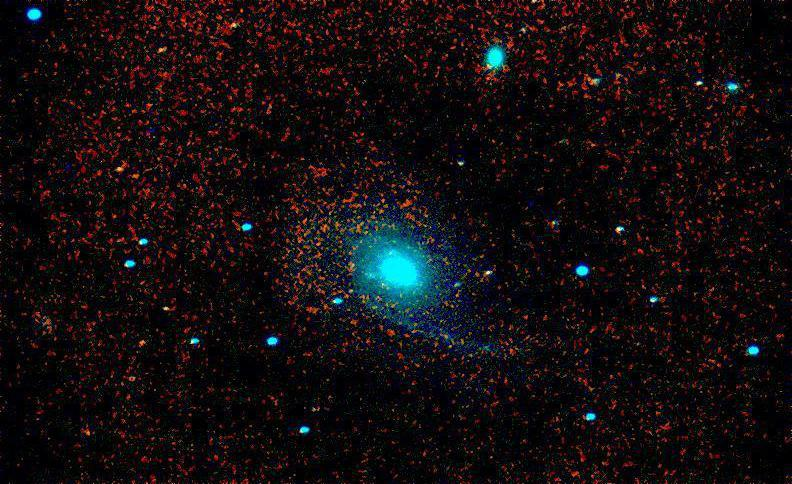star: (74, 419, 104, 449)
